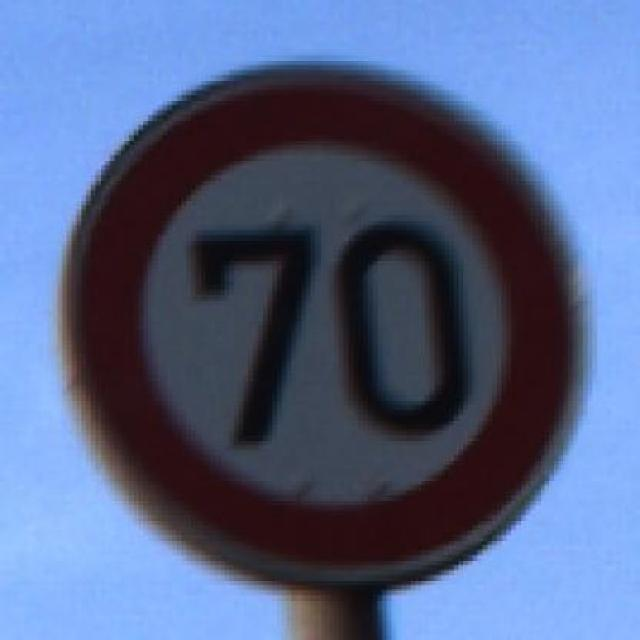forb_speed_over_70: (72, 70, 580, 578)
